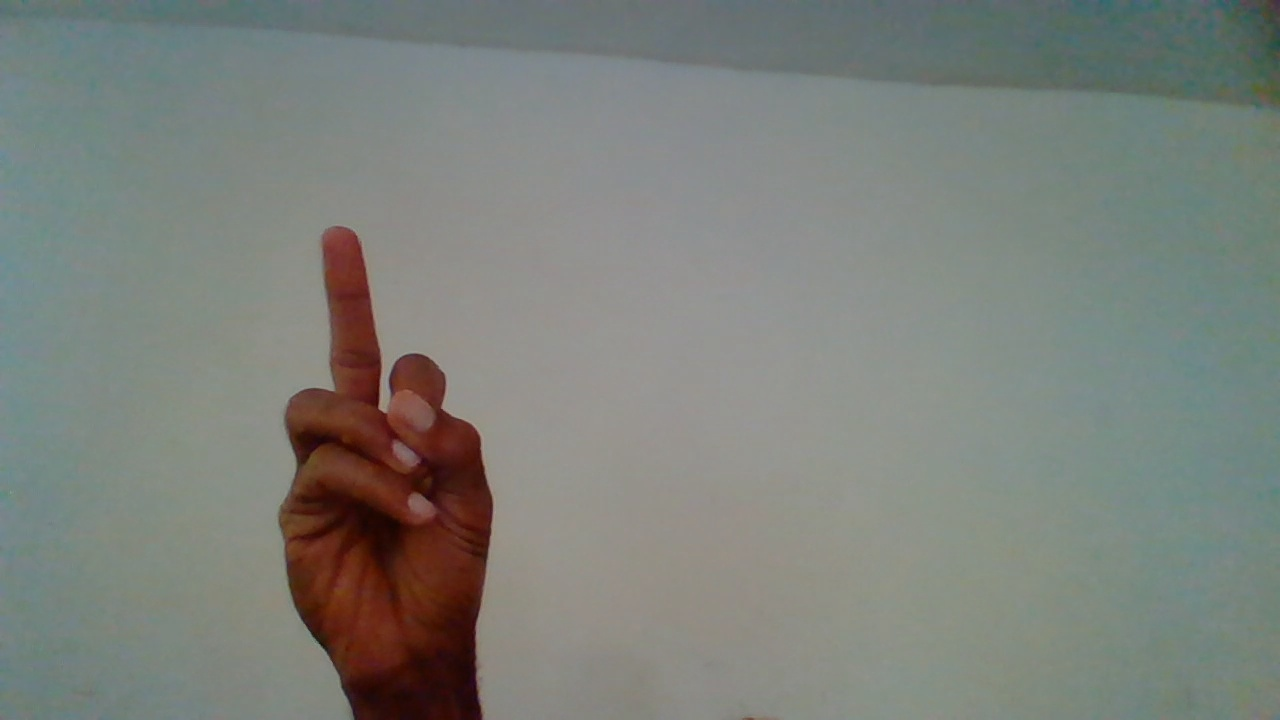he: (272, 222, 495, 705)
